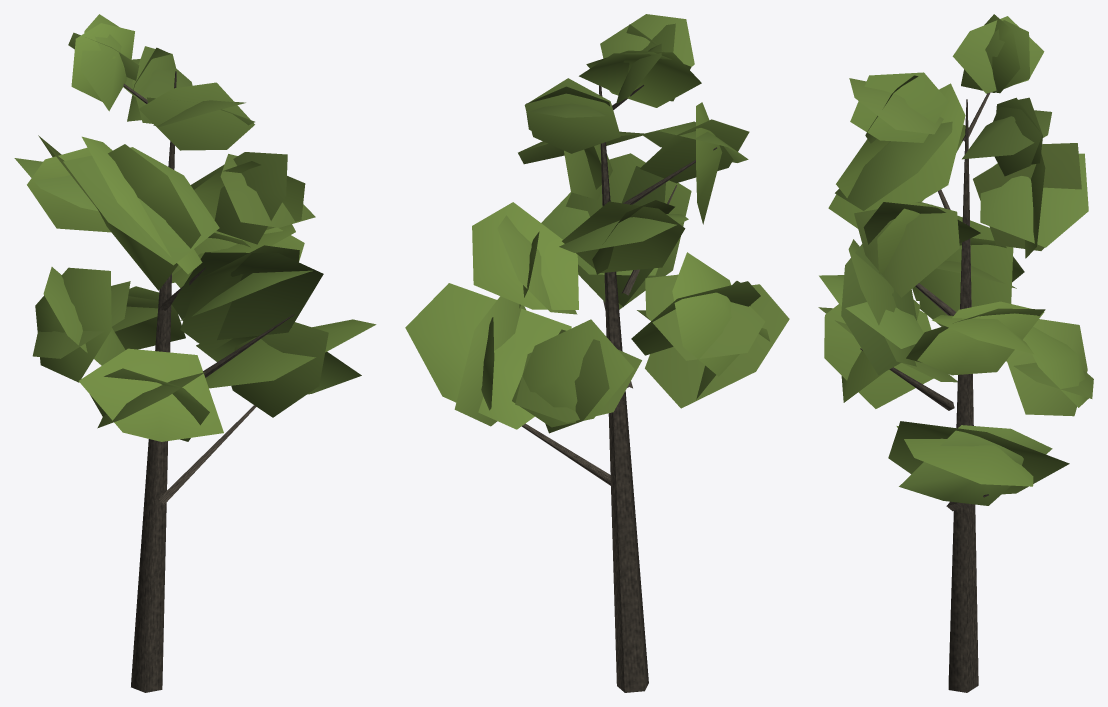
Rendered from open_04_lod3.glb.
The picture shows the model from 3 angles, left to right: view 1: azimuth 30°, elevation 25°; view 2: azimuth 150°, elevation 25°; view 3: azimuth 270°, elevation 25°; orthographic projection. The views are drawn at different scales.
Visible parts, largest first — view 1: individual_curved_leaf_sprigs, retained_branches_0; view 2: individual_curved_leaf_sprigs, retained_branches_0; view 3: individual_curved_leaf_sprigs, retained_branches_0.
Part boxes in pixels (bbox=[...]): individual_curved_leaf_sprigs: bbox=[14, 14, 376, 441]; retained_branches_0: bbox=[123, 71, 294, 692]; individual_curved_leaf_sprigs: bbox=[405, 14, 789, 433]; retained_branches_0: bbox=[522, 85, 716, 692]; individual_curved_leaf_sprigs: bbox=[818, 14, 1093, 505]; retained_branches_0: bbox=[860, 92, 990, 692].
Bounding box in the file's own units: 6.07 × 11.51 × 4.45.
Materials: 2 (1 with a texture image).
